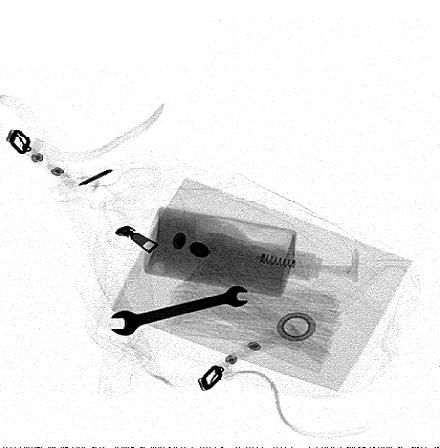Wrench: (109, 285, 251, 337)
